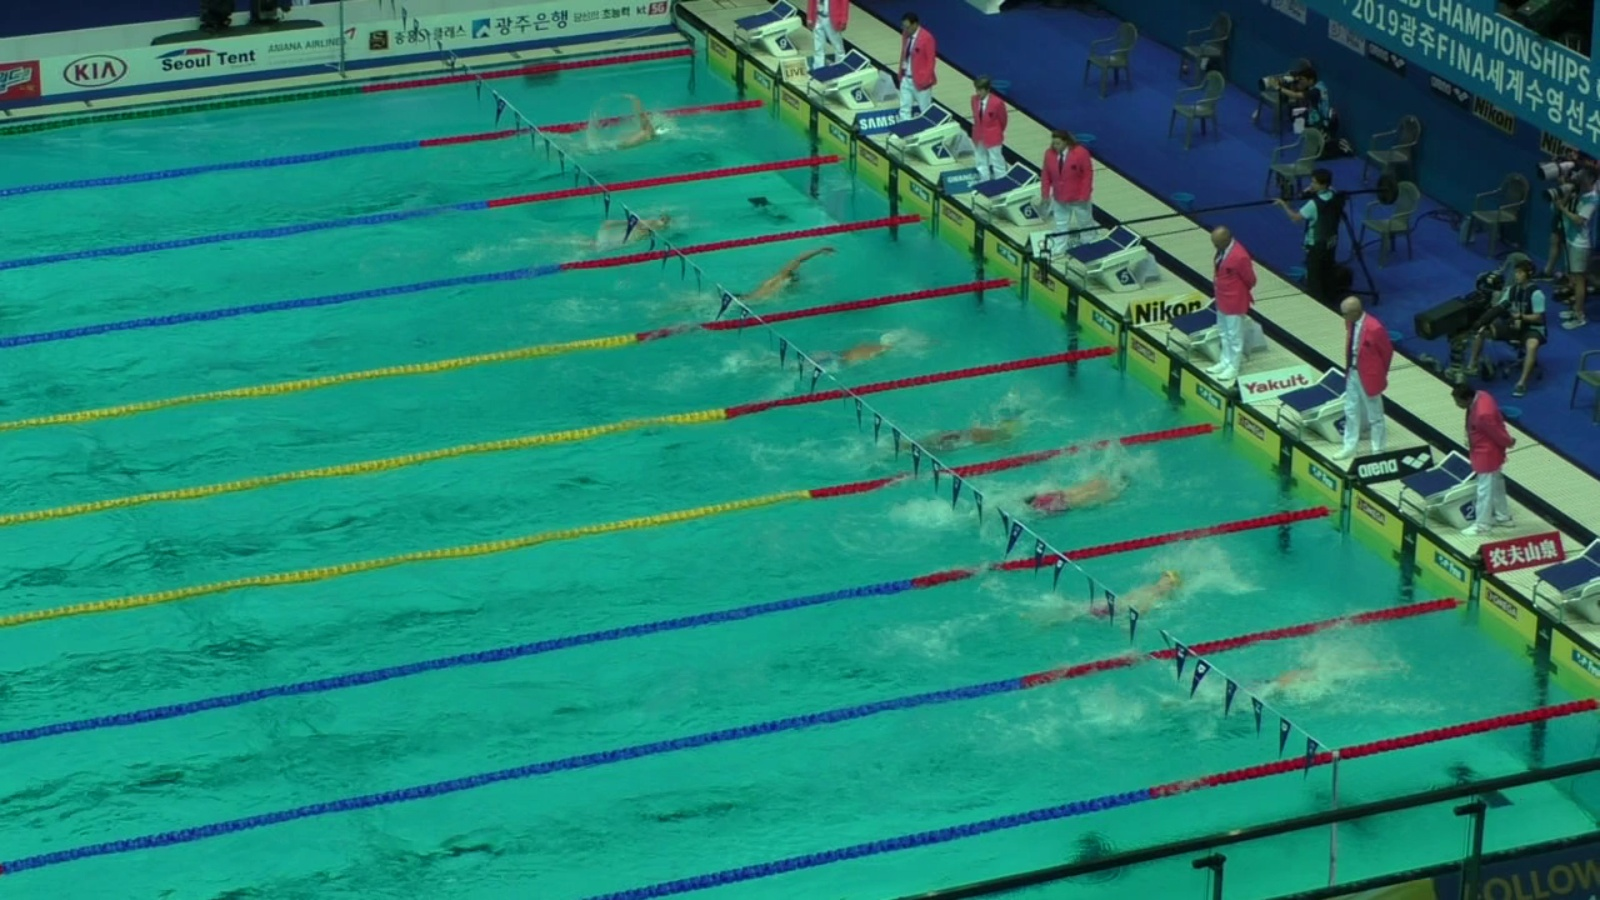swimmerwdd: (1027, 548, 1198, 637), (643, 247, 838, 320), (981, 453, 1138, 527), (1184, 655, 1367, 709), (765, 321, 914, 385), (854, 416, 1021, 473), (551, 95, 674, 155), (562, 209, 671, 252)
